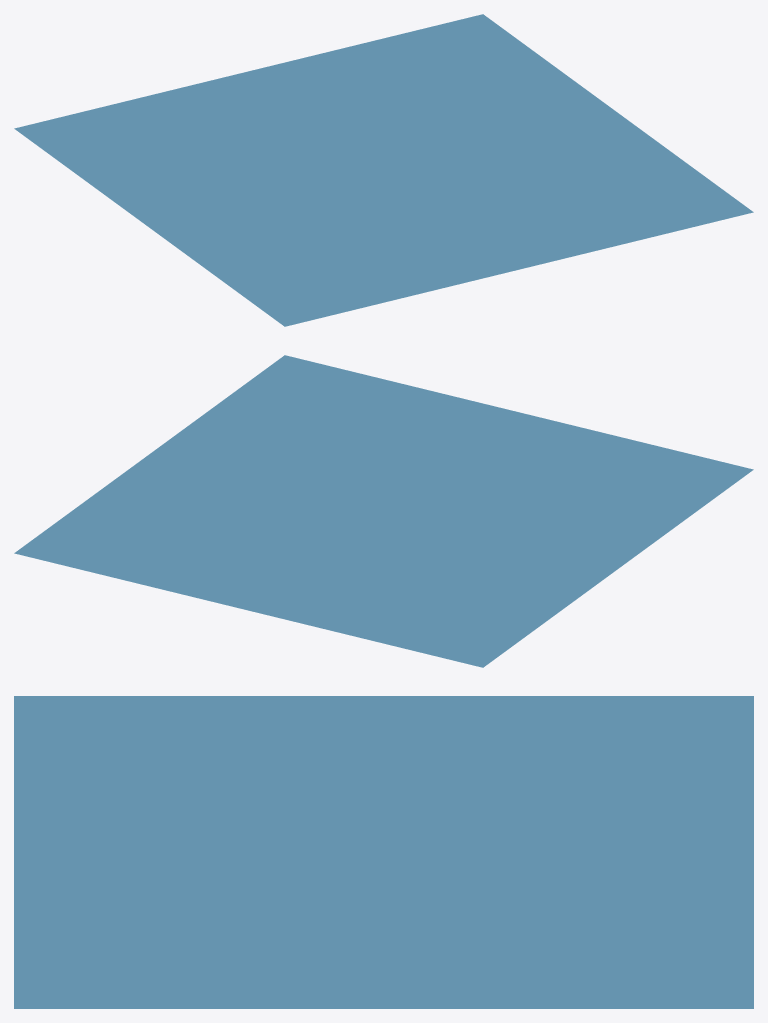
Rendered from Water.fbx.
3 views of the same model, one above another, from view 1: azimuth 30°, elevation 25°; view 2: azimuth 150°, elevation 25°; view 3: azimuth 270°, elevation 25° (orthographic). The views are drawn at different scales.
Parts seen in each view (by area): view 1: Water; view 2: Water; view 3: Water.
Boxes of the visible parts, x1=… form: Water: x1=14, y1=14, x2=753, y2=326; Water: x1=14, y1=355, x2=753, y2=667; Water: x1=14, y1=696, x2=753, y2=1008.
Size of the model in its own units: 594767 by 0 by 594767.
